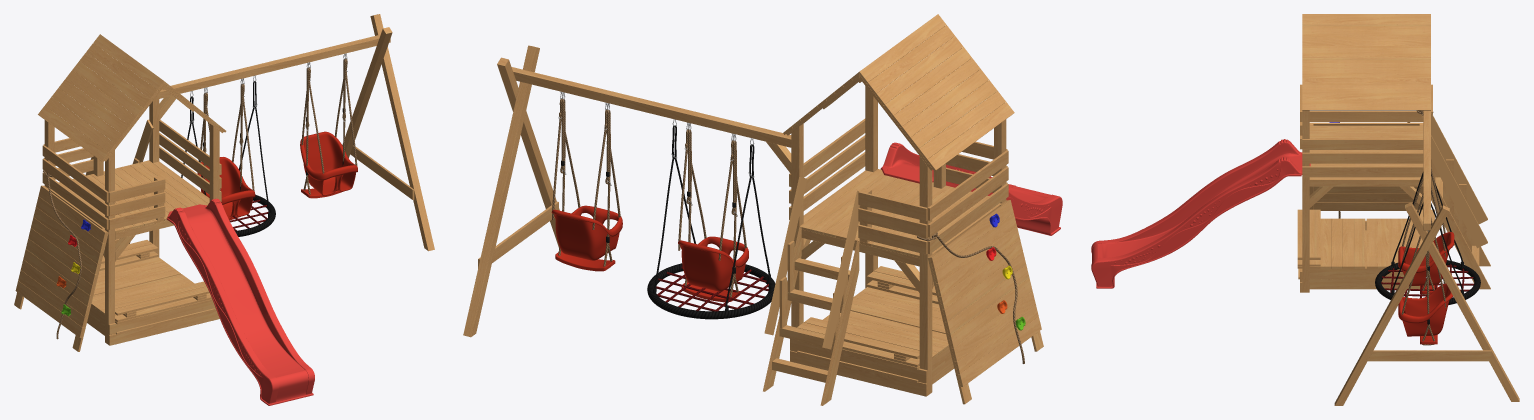
File: wooden-boyz-gaja.glb
3 renders of one model, left to right at view 1: azimuth 30°, elevation 25°; view 2: azimuth 150°, elevation 25°; view 3: azimuth 270°, elevation 25°, orthographic. The views are drawn at different scales.
Parts seen in each view (by area): view 1: konstrukcja-gaja, GRUPA-zjezdzalnia001, GRUPA-hustawka-kubelek001-b, GRUPA-gaja-piaskownica, GRUPA-gaja-piaskownica-zamknieta, GRUPA-gaja-zamkniecie, GRUPA-hustawka-kubelek001-a, GRUPA-hustawka-gniazdo-a-001, GRUPA-gaja-piaskownica-bok, GRUPA-hustawka-deska-b.001, GRUPA-hustawka-deska-a-001, GRUPA-gaja-balustrada (+3 smaller); view 2: konstrukcja-gaja, GRUPA-hustawka-gniazdo-a-001, GRUPA-gaja-piaskownica-zamknieta, GRUPA-hustawka-kubelek001-b, GRUPA-hustawka-kubelek001-a, GRUPA-gaja-zamkniecie, GRUPA-gaja-balustrada, GRUPA-gaja-piaskownica, GRUPA-zjezdzalnia001, GRUPA-hustawka-deska-b.001, GRUPA-gaja-piaskownica-bok, GRUPA-hustawka-deska-a-001 (+2 smaller); view 3: konstrukcja-gaja, GRUPA-zjezdzalnia001, GRUPA-gaja-piaskownica-zamknieta, GRUPA-gaja-balustrada, GRUPA-hustawka-kubelek001-b, GRUPA-hustawka-gniazdo-a-001, GRUPA-hustawka-kubelek001-a, GRUPA-gaja-piaskownica, GRUPA-gaja-zamkniecie, GRUPA-gaja-piaskownica-bok, GRUPA-hustawka-deska-b.001.
Boxes of the visible parts, x1,y1,x2,y2 form: konstrukcja-gaja: (14, 14, 434, 351); GRUPA-zjezdzalnia001: (166, 198, 314, 405); GRUPA-hustawka-kubelek001-b: (300, 53, 357, 195); GRUPA-gaja-piaskownica: (99, 240, 212, 324); GRUPA-gaja-piaskownica-zamknieta: (91, 257, 194, 324); GRUPA-gaja-zamkniecie: (42, 145, 108, 229); GRUPA-hustawka-kubelek001-a: (197, 78, 255, 218); GRUPA-hustawka-gniazdo-a-001: (181, 75, 275, 236); GRUPA-gaja-piaskownica-bok: (89, 301, 215, 334); GRUPA-hustawka-deska-b.001: (301, 53, 346, 198); GRUPA-hustawka-deska-a-001: (203, 79, 243, 220); GRUPA-gaja-balustrada: (85, 119, 153, 175); konstrukcja-gaja: (463, 14, 1043, 405); GRUPA-hustawka-gniazdo-a-001: (647, 119, 775, 319); GRUPA-gaja-piaskownica-zamknieta: (799, 287, 948, 369); GRUPA-hustawka-kubelek001-b: (551, 91, 622, 260); GRUPA-hustawka-kubelek001-a: (678, 122, 748, 291); GRUPA-gaja-zamkniecie: (927, 150, 1008, 253); GRUPA-gaja-balustrada: (764, 176, 859, 349); GRUPA-gaja-piaskownica: (797, 266, 938, 369); GRUPA-zjezdzalnia001: (880, 142, 1062, 235); GRUPA-hustawka-deska-b.001: (555, 92, 615, 271); GRUPA-gaja-piaskownica-bok: (790, 339, 951, 383); GRUPA-hustawka-deska-a-001: (681, 123, 741, 302); konstrukcja-gaja: (1300, 14, 1519, 405); GRUPA-zjezdzalnia001: (1091, 139, 1310, 288); GRUPA-gaja-piaskownica-zamknieta: (1320, 218, 1411, 268); GRUPA-gaja-balustrada: (1421, 112, 1487, 248); GRUPA-hustawka-kubelek001-b: (1398, 217, 1453, 336); GRUPA-hustawka-gniazdo-a-001: (1375, 172, 1480, 304); GRUPA-hustawka-kubelek001-a: (1398, 167, 1454, 285); GRUPA-gaja-piaskownica: (1297, 209, 1434, 268); GRUPA-gaja-zamkniecie: (1309, 111, 1423, 121); GRUPA-gaja-piaskownica-bok: (1300, 220, 1403, 281); GRUPA-hustawka-deska-b.001: (1420, 251, 1437, 345).
Size of the model in its own units: 4.06 by 2.59 by 3.99.
Materials: 19 (11 with a texture image).
